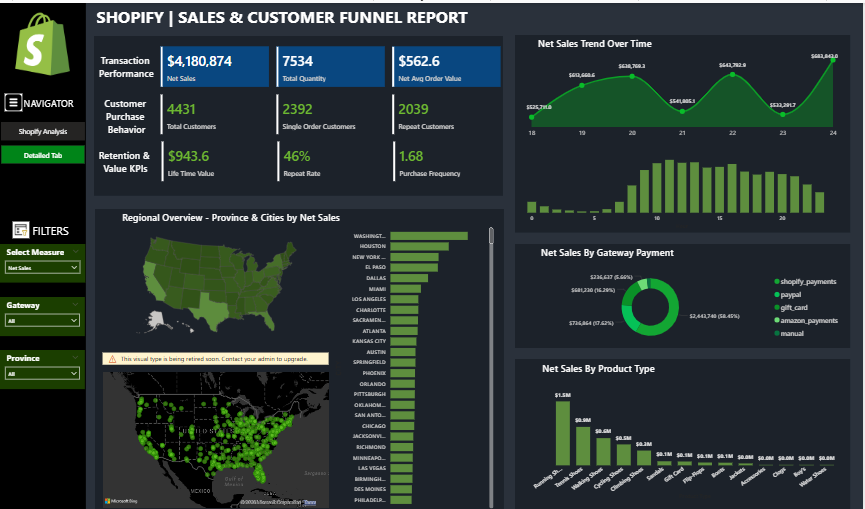

This screenshot's page, from the dashboard's own definition file:
{"tool":"powerbi","page":{"name":"Shopify Analysis","canvas":[1700,1000],"ordinal":0},"visuals":[{"type":"shape","box":[0,0,171.3,1000],"z":0},{"type":"textbox","box":[187.4,0,805.4,64.7],"z":1000},{"type":"shape","box":[187.4,64.7,805.4,314.6],"z":2000},{"type":"cardVisual","fields":{"Data":["shopify_sales.Net Sales","shopify_sales.Total Quantity","shopify_sales.Net Avg Order Value"]},"box":[312.3,80.3,680.4,89.2],"z":3000},{"type":"card","fields":{"Values":["shopify_sales.Transaction Performance"]},"box":[189,86.6,124,74.8],"z":4000},{"type":"cardVisual","fields":{"Data":["shopify_sales.Total Customers","shopify_sales.Single Order Customers","shopify_sales.Repeat Customers"]},"box":[313,174.3,679.1,88.6],"z":5000},{"type":"card","fields":{"Values":["shopify_sales.Customer Purchase Behavior"]},"box":[189,169.3,124,98.4],"z":6000},{"type":"cardVisual","fields":{"Data":["shopify_sales.Life Time Value","shopify_sales.Repeat Rate","shopify_sales.Purchase Frequency"]},"box":[315,267.7,679.1,88.6],"z":7000},{"type":"card","fields":{"Values":["shopify_sales.Relation & Value KPIs"]},"box":[187,275.6,124,72.8],"z":8000},{"type":"shape","box":[189,405.5,805.1,594.5],"z":9000},{"type":"shapeMap","fields":{"Value":["shopify_sales.Net Sales"],"Category":["shopify_sales.Billing Address Province"]},"box":[200.8,444.9,454.7,220.5],"z":10000},{"type":"slicer","fields":{"Values":["Select Measure.Select Measure"]},"box":[1.3,474.4,168,76],"z":11000},{"type":"map","fields":{"Category":["shopify_sales.Location"]},"box":[198.8,683.1,454.7,316.9],"z":12000},{"type":"barChart","fields":{"Y":["shopify_sales.Net Sales"],"Category":["shopify_sales.CITY"]},"box":[655.5,429.1,322.8,570.9],"z":13000},{"type":"card","fields":{"Values":["shopify_sales.Map Titel"]},"box":[188.3,405.8,535.6,38.4],"z":14000},{"type":"shape","box":[1016.3,62.2,659.9,389.4],"z":15000},{"type":"areaChart","fields":{"Y":["shopify_sales.Net Sales"],"Category":["shopify_sales.Invoice Date.Variation.Date Hierarchy.Day"]},"box":[1032.8,85.9,623.3,186.5],"z":16000},{"type":"columnChart","fields":{"Y":["shopify_sales.Net Sales"],"Category":["shopify_sales.Hour"]},"box":[1033.5,267.7,622,183.1],"z":17000},{"type":"card","fields":{"Values":["shopify_sales.Trend Title"]},"box":[1016.3,60.3,314.4,40.2],"z":18000},{"type":"shape","box":[1016.3,475.3,659.9,204.7],"z":19000},{"type":"donutChart","fields":{"Y":["shopify_sales.Net Sales"],"Category":["shopify_sales.Gateway"]},"box":[1032.8,521,632.5,153.5],"z":20000},{"type":"card","fields":{"Values":["shopify_sales.Gateway Title"]},"box":[1016.3,475.3,363.8,38.4],"z":21000},{"type":"shape","box":[1016.3,700.1,659.9,298],"z":22000},{"type":"columnChart","fields":{"Y":["shopify_sales.Net Sales"],"Category":["shopify_sales.Product Type"]},"box":[1045.6,749.5,619.7,232.2],"z":23000},{"type":"card","fields":{"Values":["shopify_sales.Product Title"]},"box":[1016.3,701.9,329,38.4],"z":24000},{"type":"image","box":[15.7,13.8,139.8,133.9],"z":25000},{"type":"slicer","fields":{"Values":["shopify_sales.Gateway"]},"box":[2,578.7,167.3,76.8],"z":26000},{"type":"slicer","fields":{"Values":["shopify_sales.Billing Address Province"]},"box":[2,683.1,167.3,76.8],"z":27000},{"type":"pageNavigator","box":[3.9,234.3,165.4,82.7],"z":28000},{"type":"textbox","box":[61,429.1,94.5,45.3],"z":29000},{"type":"textbox","box":[43.3,179.1,126,43.3],"z":30000},{"type":"image","box":[0,173.2,57.1,45.3],"z":31000},{"type":"image","box":[15.7,425.2,55.1,43.3],"z":32000}]}

Visuals, with their boxes on the page's 1700x1000 design canvas (x1, y1, x2, y2). These are canvas units, not pixel positions in the 865x509 screenshot, which may show the page scaled, cropped or inside an application window:
shape: region(0, 0, 171, 1000)
textbox: region(187, 0, 993, 65)
shape: region(187, 65, 993, 379)
cardVisual - shopify_sales.Net Sales x shopify_sales.Total Quantity: region(312, 80, 993, 170)
card - shopify_sales.Transaction Performance: region(189, 87, 313, 161)
cardVisual - shopify_sales.Total Customers x shopify_sales.Single Order Customers: region(313, 174, 992, 263)
card - shopify_sales.Customer Purchase Behavior: region(189, 169, 313, 268)
cardVisual - shopify_sales.Life Time Value x shopify_sales.Repeat Rate: region(315, 268, 994, 356)
card - shopify_sales.Relation & Value KPIs: region(187, 276, 311, 348)
shape: region(189, 406, 994, 1000)
shapeMap - shopify_sales.Net Sales x shopify_sales.Billing Address Province: region(201, 445, 656, 665)
slicer - Select Measure.Select Measure: region(1, 474, 169, 550)
map - shopify_sales.Location: region(199, 683, 654, 1000)
barChart - shopify_sales.Net Sales x shopify_sales.CITY: region(656, 429, 978, 1000)
card - shopify_sales.Map Titel: region(188, 406, 724, 444)
shape: region(1016, 62, 1676, 452)
areaChart - shopify_sales.Net Sales x shopify_sales.Invoice Date.Variation.Date Hierarchy.Day: region(1033, 86, 1656, 272)
columnChart - shopify_sales.Net Sales x shopify_sales.Hour: region(1034, 268, 1656, 451)
card - shopify_sales.Trend Title: region(1016, 60, 1331, 100)
shape: region(1016, 475, 1676, 680)
donutChart - shopify_sales.Net Sales x shopify_sales.Gateway: region(1033, 521, 1665, 674)
card - shopify_sales.Gateway Title: region(1016, 475, 1380, 514)
shape: region(1016, 700, 1676, 998)
columnChart - shopify_sales.Net Sales x shopify_sales.Product Type: region(1046, 750, 1665, 982)
card - shopify_sales.Product Title: region(1016, 702, 1345, 740)
image: region(16, 14, 156, 148)
slicer - shopify_sales.Gateway: region(2, 579, 169, 656)
slicer - shopify_sales.Billing Address Province: region(2, 683, 169, 760)
pageNavigator: region(4, 234, 169, 317)
textbox: region(61, 429, 156, 474)
textbox: region(43, 179, 169, 222)
image: region(0, 173, 57, 218)
image: region(16, 425, 71, 468)
